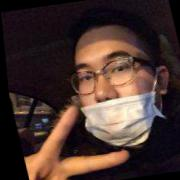WRONG: (65, 45, 165, 147)
